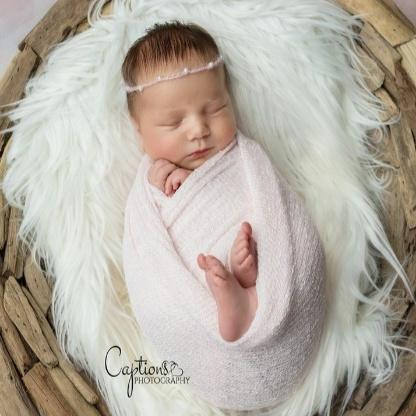baby: (119, 23, 325, 406)
